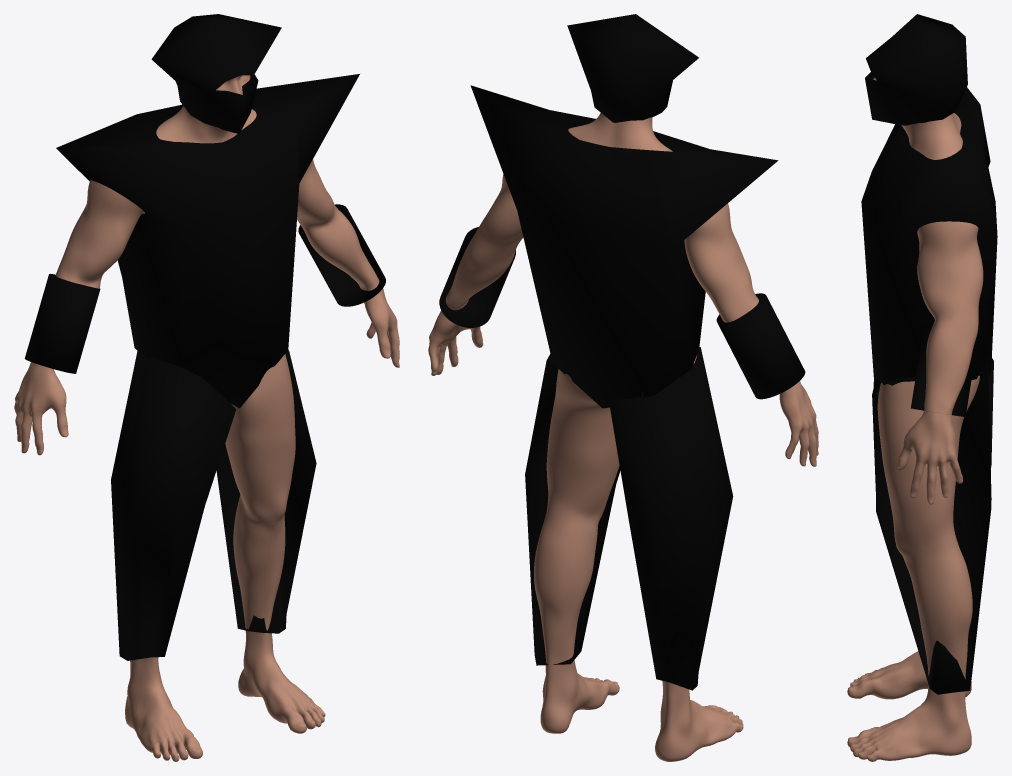
The model's file is karakter 1.0.glb.
3 views of the same model, side by side, from view 1: azimuth 30°, elevation 25°; view 2: azimuth 150°, elevation 25°; view 3: azimuth 270°, elevation 25° (orthographic).
Visible parts, largest first — view 1: Karakter; view 2: Karakter; view 3: Karakter.
Boxes of the visible parts, bbox=[...] form: Karakter: bbox=[14, 14, 399, 761]; Karakter: bbox=[428, 14, 818, 761]; Karakter: bbox=[847, 14, 997, 761].
Bounding box in the file's own units: 1.16 × 2.08 × 0.4024.
1 material, 1 textured.
